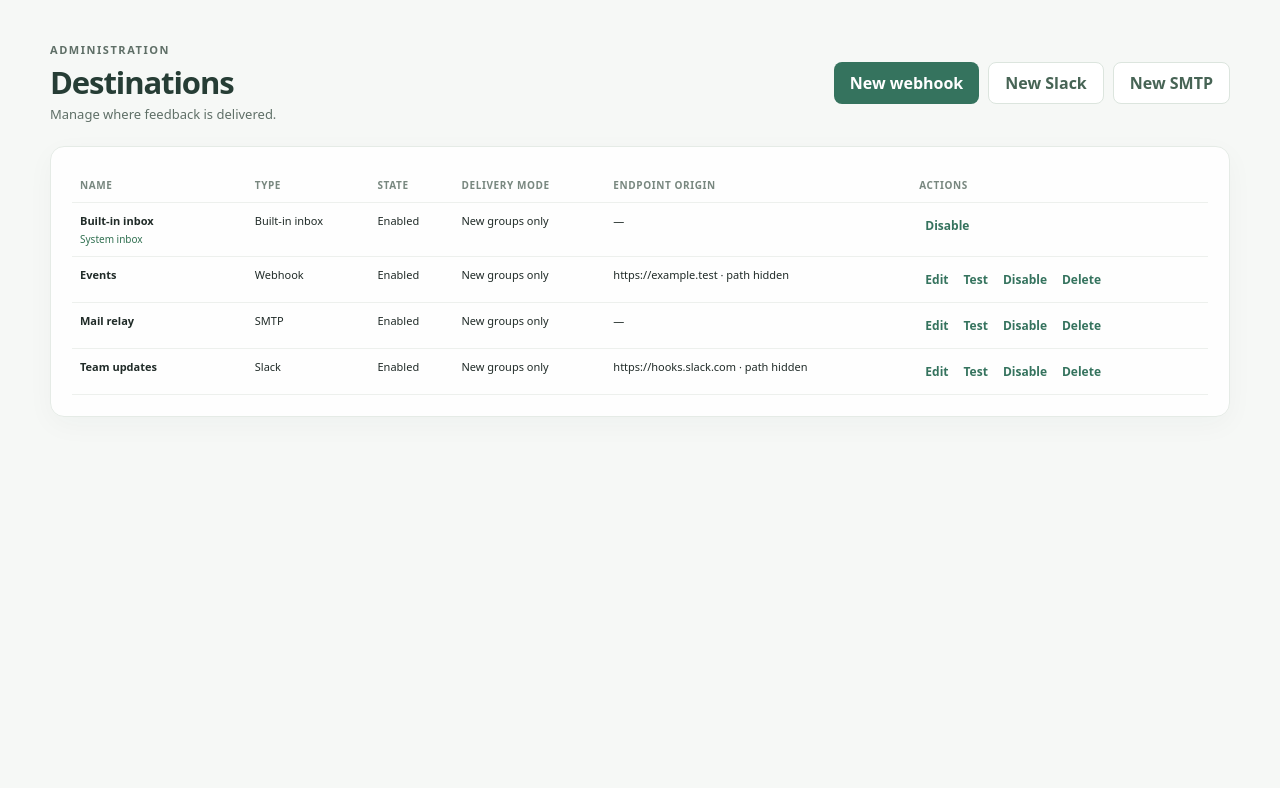
Destinations admin UI › hides and clears SMTP credentials when TLS is None
Click the button "New SMTP".
click(1171, 83)  # box [1113,62,1230,104]
(page scrolled)
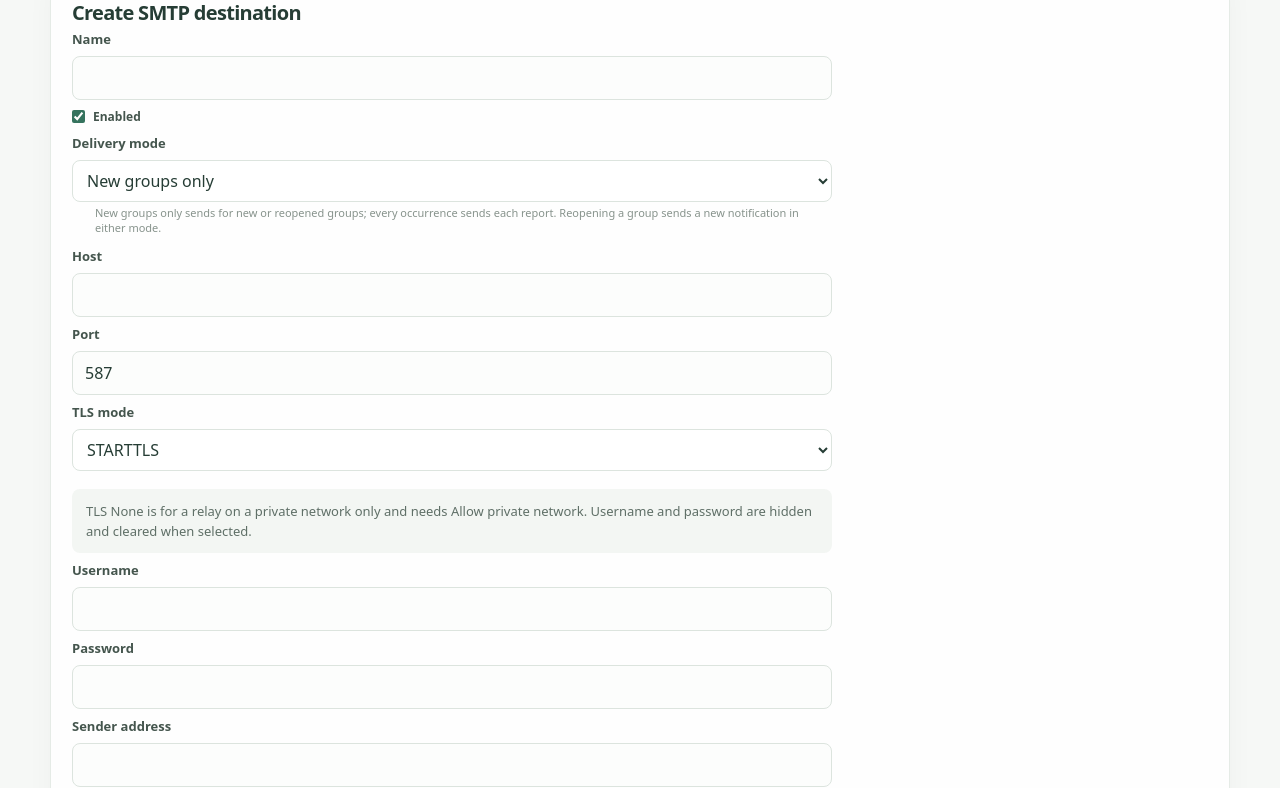
Select "None (private relay only)" in the dropdown named "tls_mode" at (452, 450), box [72,429,832,471]
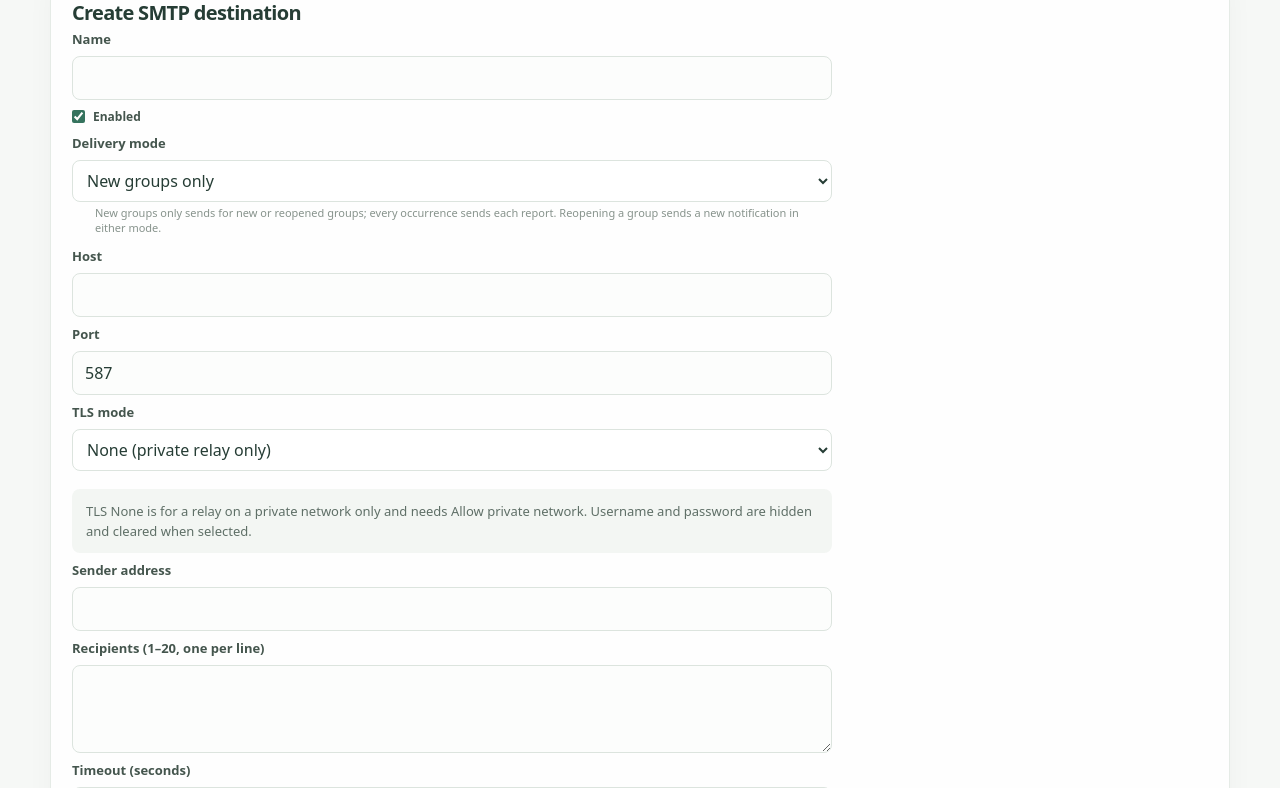
Result: the password field named "password" is gone
